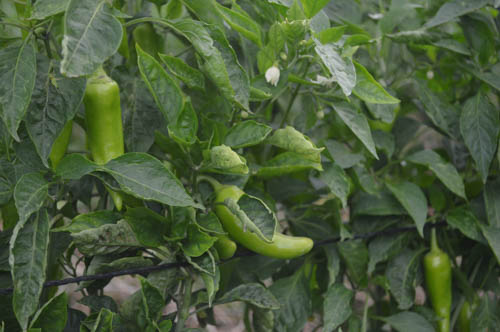ChiliPepper: (217, 185, 315, 258), (85, 80, 128, 210), (424, 250, 451, 328)
